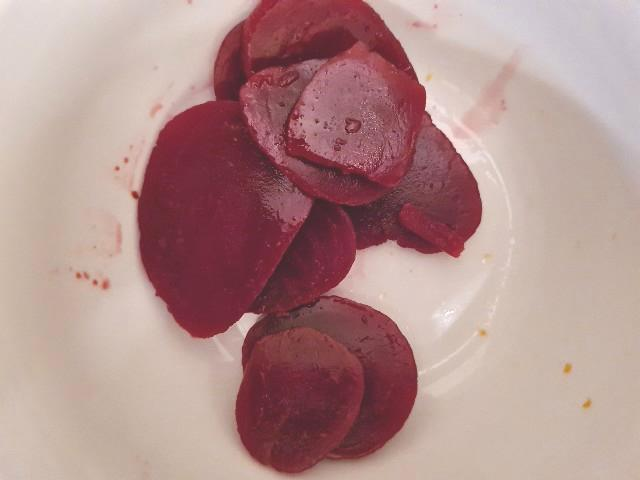kichen waste: (138, 1, 482, 473)
